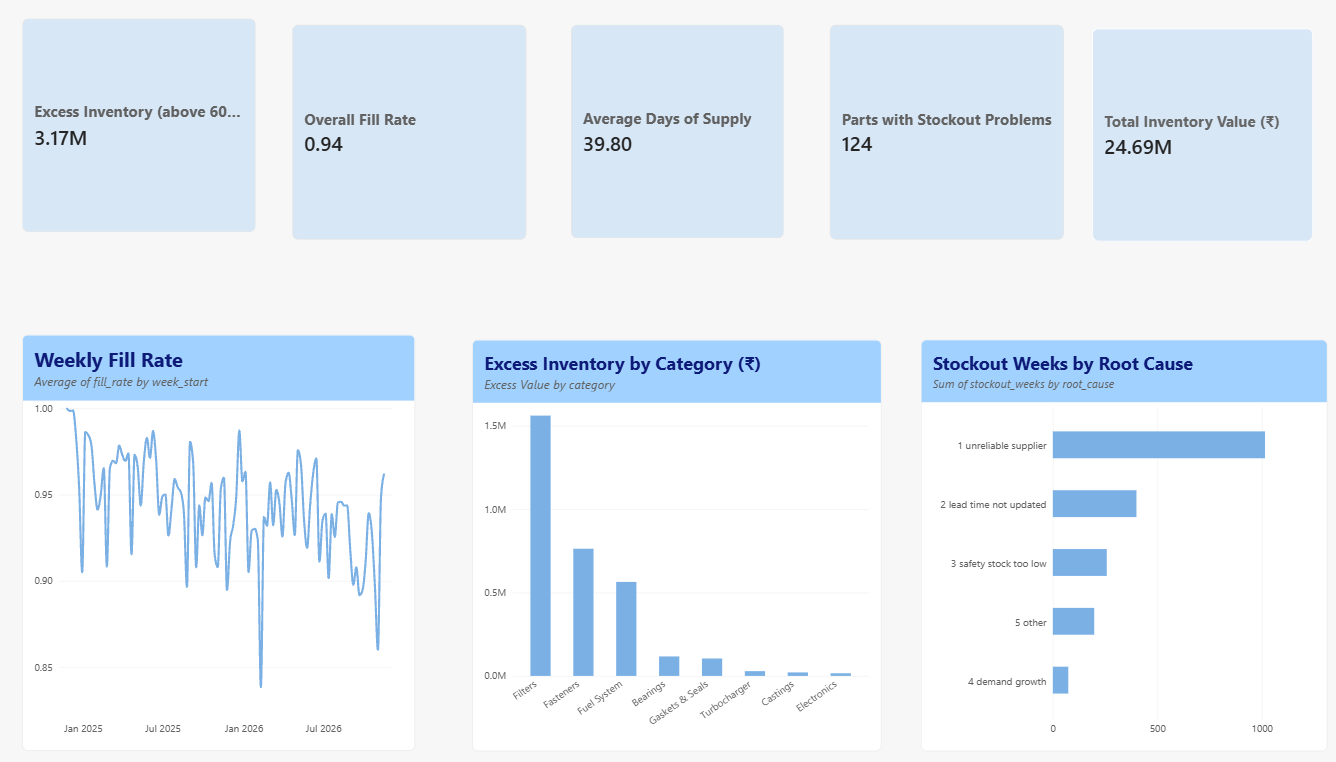

Layout of this report page (visuals, bound fields, positions):
{"tool":"powerbi","page":{"name":"Overview","canvas":[1920,1080],"ordinal":0},"visuals":[{"type":"cardVisual","fields":{"Data":["public dim_part.Overall Fill Rate"]},"box":[417.5,40.5,330,303.3],"z":0},{"type":"cardVisual","fields":{"Data":["public dim_part.Excess Value"]},"box":[37,31,329.5,301.3],"z":1000},{"type":"cardVisual","fields":{"Data":["public dim_part.Avg Days of Supply"]},"box":[810.4,40.5,300,301.7],"z":2000},{"type":"cardVisual","fields":{"Data":["public dim_part.Problem Parts"]},"box":[1175.1,40.5,330,303],"z":3000},{"type":"cardVisual","fields":{"Data":["public dim_part.Inventory Value"]},"box":[1545.1,45.8,311.7,300],"z":4000},{"type":"lineChart","title":"Weekly Fill Rate","fields":{"Category":["public v_weekly_trend.week_start"],"Y":["Avg(public v_weekly_trend.fill_rate)"]},"box":[37,477.4,553.2,586.7],"z":5000},{"type":"clusteredColumnChart","title":"Excess Inventory by Category (₹)","fields":{"Category":["public dim_part.category"],"Y":["public dim_part.Excess Value"]},"box":[671.7,485,576.7,580],"z":6000},{"type":"barChart","title":"Stockout Weeks by Root Cause","fields":{"Category":["public v_part_rootcause.root_cause"],"Y":["Sum(public v_part_rootcause.stockout_weeks)"]},"box":[1303.7,484.5,572.6,579.6],"z":7000}]}

Visuals, with their boxes in screenshot pixels (x1, y1, x2, y2), scaled from the page's 1920x1080 canvas onto the 1336x762 screenshot:
cardVisual - public dim_part.Overall Fill Rate: <box>291,29,520,243</box>
cardVisual - public dim_part.Excess Value: <box>26,22,255,234</box>
cardVisual - public dim_part.Avg Days of Supply: <box>564,29,773,241</box>
cardVisual - public dim_part.Problem Parts: <box>818,29,1047,242</box>
cardVisual - public dim_part.Inventory Value: <box>1075,32,1292,244</box>
"Weekly Fill Rate" lineChart: <box>26,337,411,751</box>
"Excess Inventory by Category (₹)" clusteredColumnChart: <box>467,342,869,751</box>
"Stockout Weeks by Root Cause" barChart: <box>907,342,1306,751</box>
